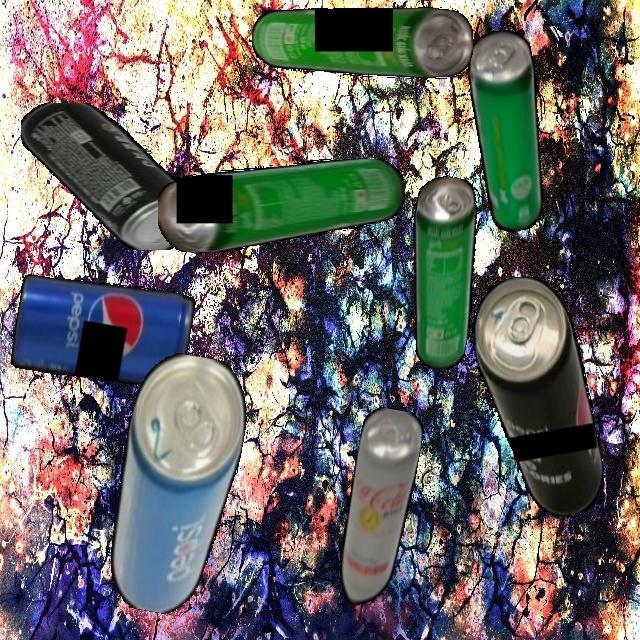debris: (98, 347, 256, 622), (464, 269, 610, 525), (21, 102, 201, 250), (8, 267, 196, 396), (158, 158, 405, 252), (458, 26, 561, 235), (389, 173, 494, 373), (332, 405, 426, 610), (251, 7, 473, 79)
